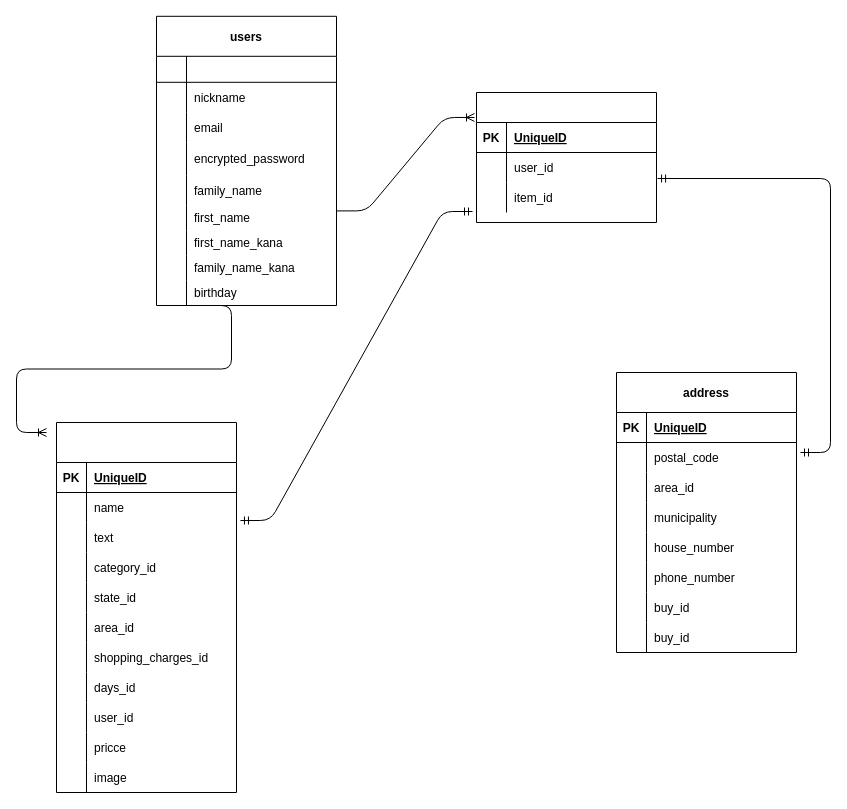
The diagram is 847 pixels wide and 809 high, and some of its shapes have lost their labels. The box of each missing label's shape, as (x1, y1, x2, y2) in pixels:
buys: (476, 92, 656, 222)
items: (56, 422, 236, 792)
